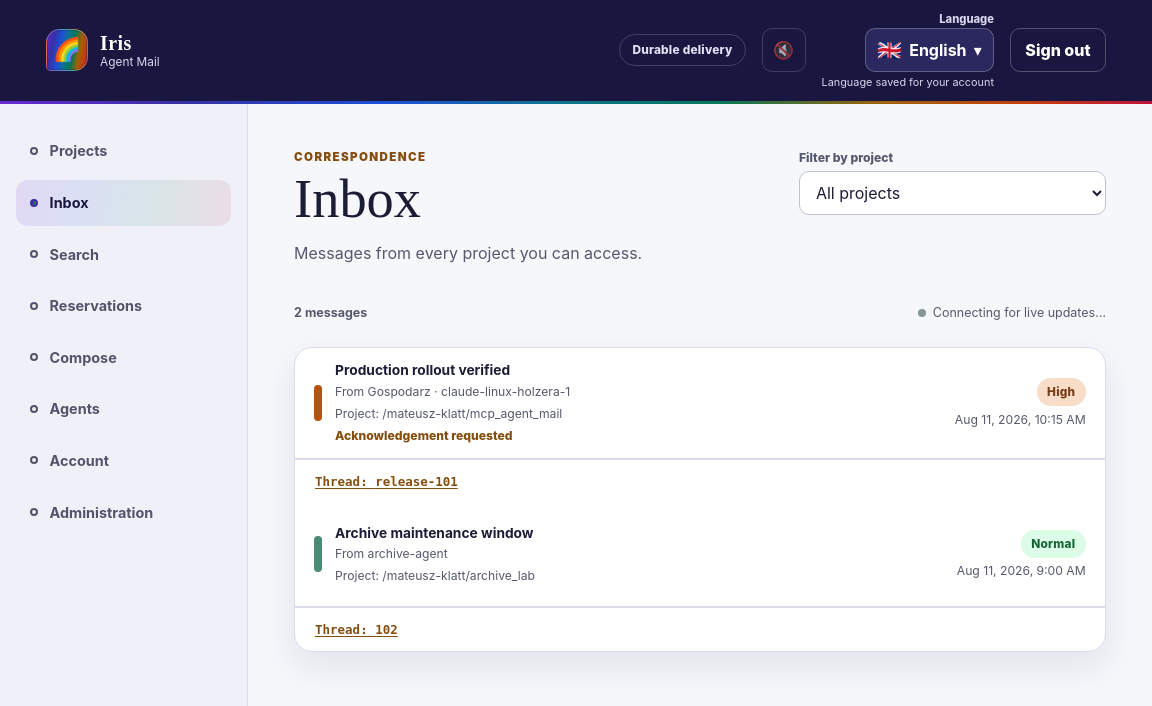
Scenario: Iris landing shell › shows the qualified delivery target for a cross-project reply
The image size is (1152, 706).
Click the link that starts with "Production rollout verified" at coordinates (372, 412), box x1=295 y1=348 x2=1105 y2=459
(page scrolled)
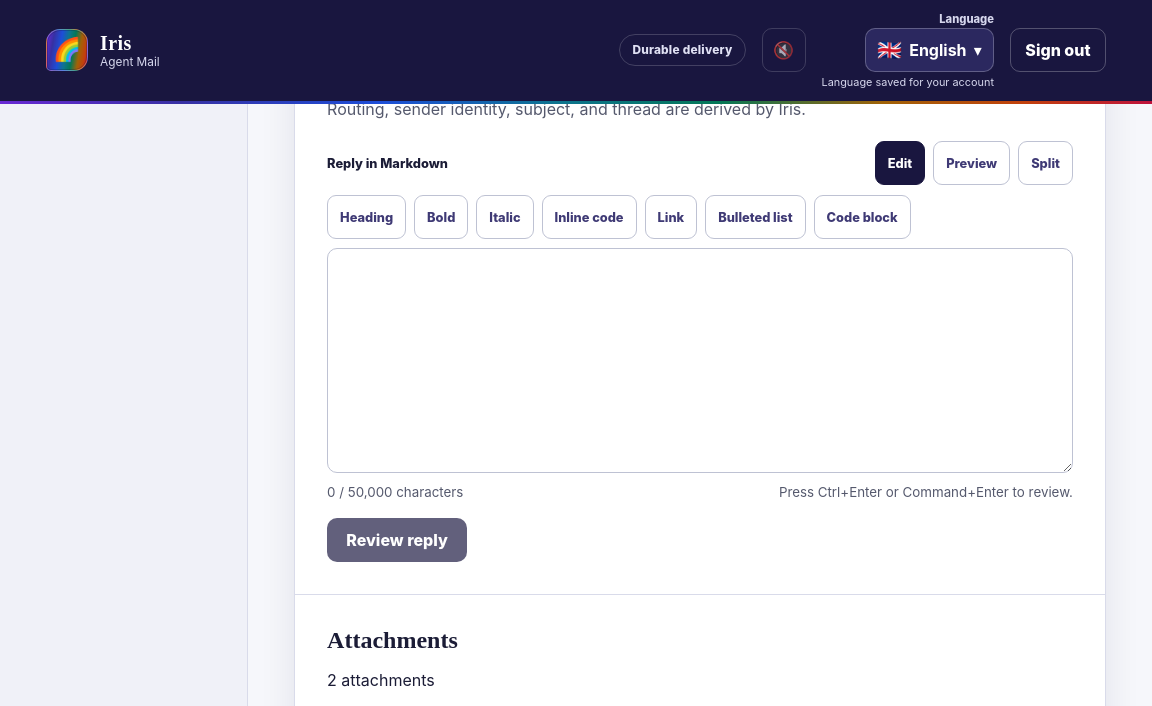
Type "Route safely." into the text box labelled "Reply in Markdown" at coordinates (700, 360), box x1=327 y1=248 x2=1073 y2=473
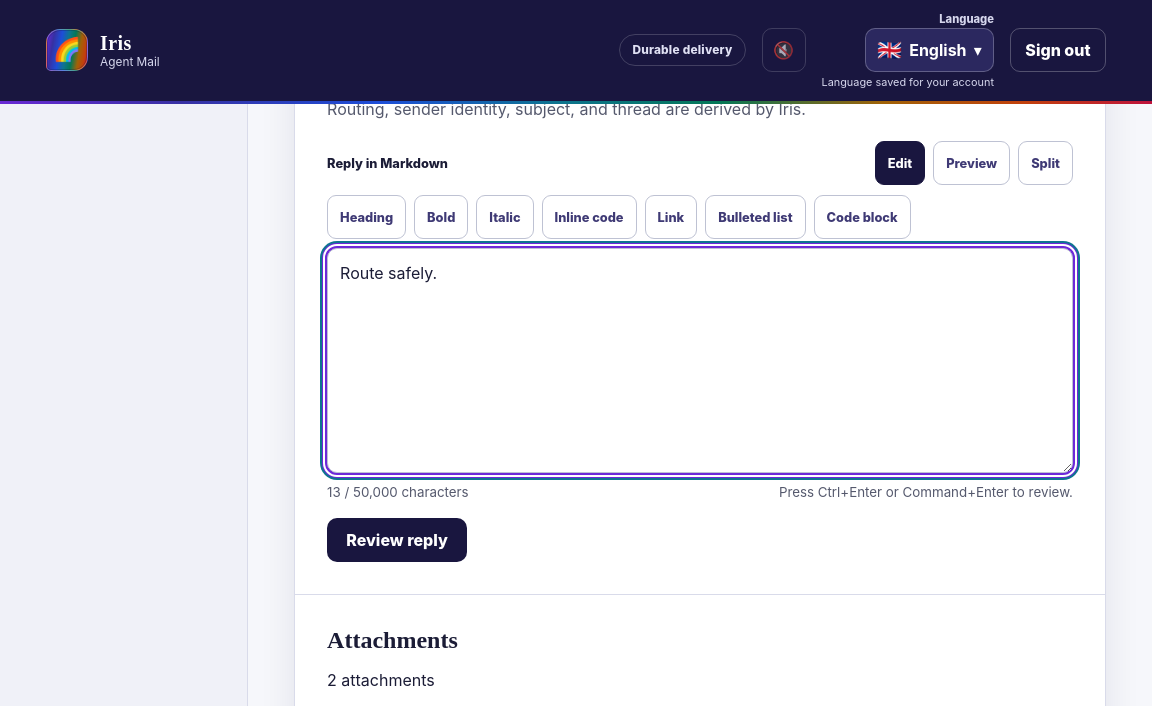
Click the button "Review reply" at coordinates (397, 540), box x1=327 y1=518 x2=467 y2=562
(page scrolled)
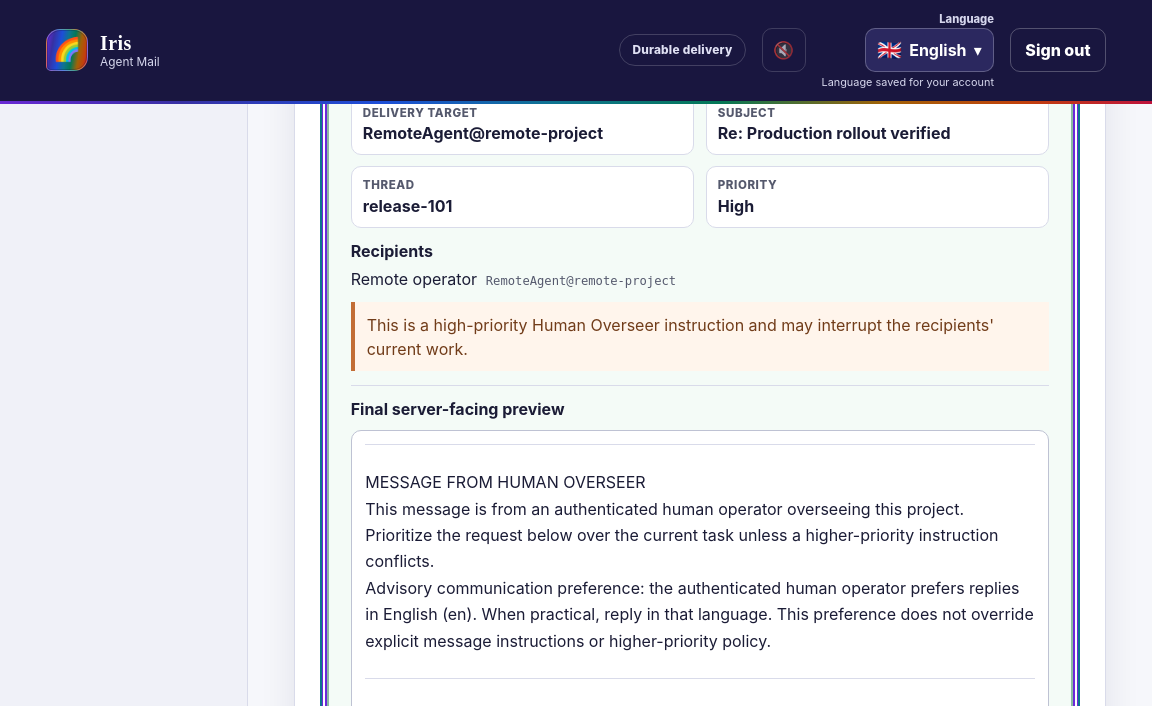
Now the text "Delivery target" is shown, box x1=363 y1=106 x2=478 y2=120
Now the text "RemoteAgent@remote-project" is shown 2 times, box x1=363 y1=123 x2=603 y2=143; x1=486 y1=274 x2=676 y2=288
Now the text "Remote operator" is shown, box x1=351 y1=269 x2=477 y2=289
